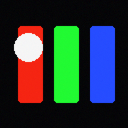2 circle: (14, 33, 42, 61)
